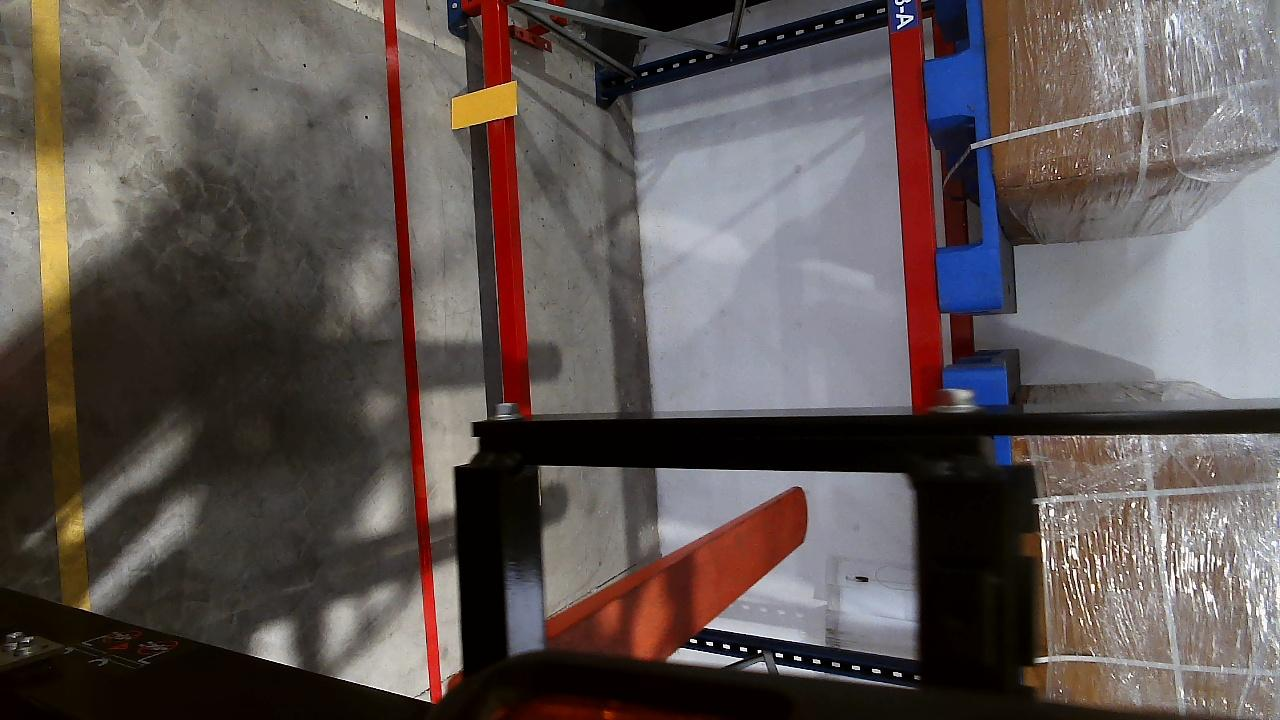h_rack: (883, 0, 944, 409), (475, 2, 532, 411)
orange_strip: (450, 82, 519, 129)
red_line: (382, 3, 442, 694)
small_pallet: (918, 0, 997, 309)
yellow_line: (27, 0, 83, 600)
